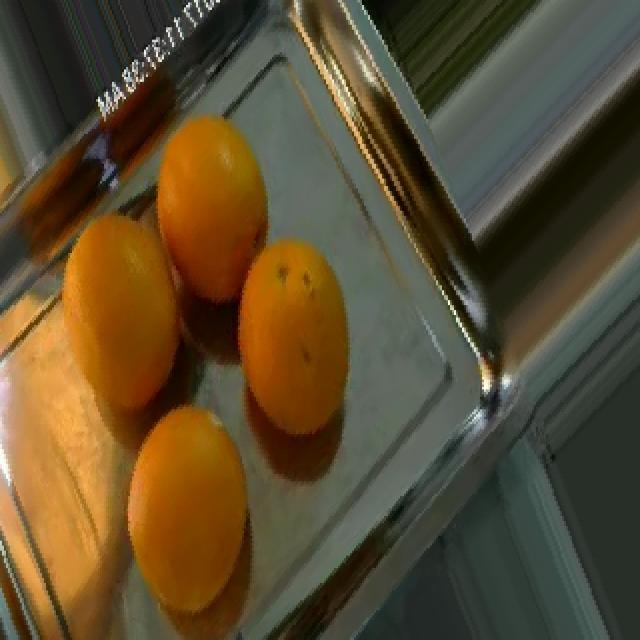Fruit: (124, 79, 298, 303)
